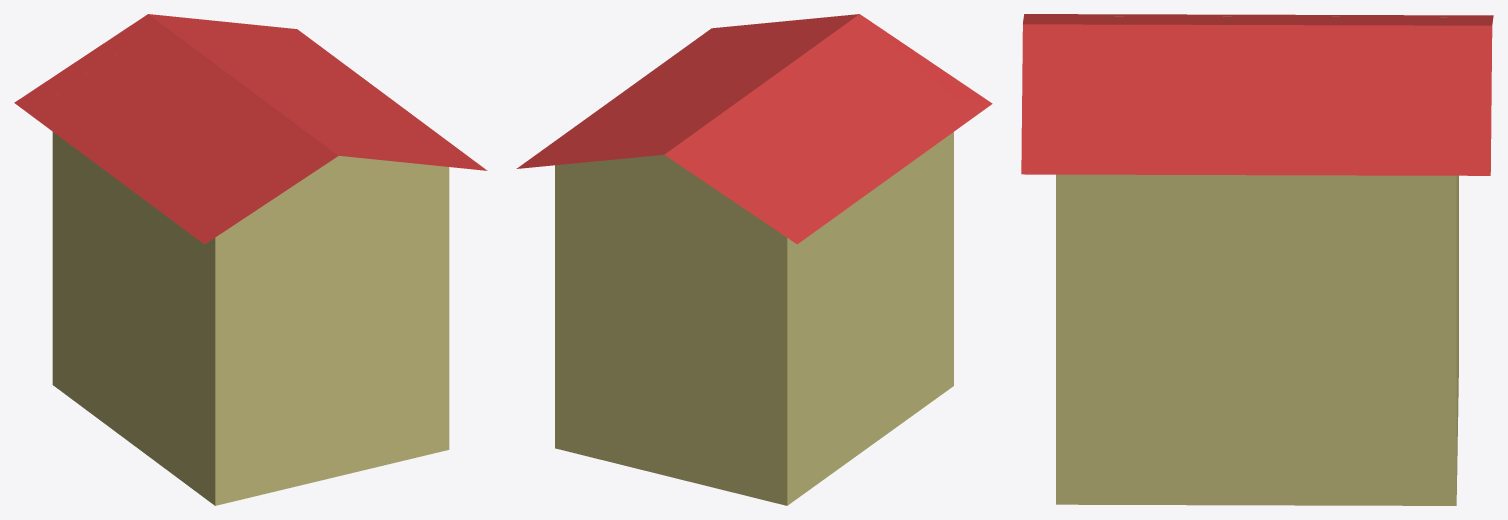
3 views of the same model, side by side, from view 1: azimuth 30°, elevation 25°; view 2: azimuth 150°, elevation 25°; view 3: azimuth 270°, elevation 25° (orthographic). The views are drawn at different scales.
Bounding box in the file's own units: 5.81 × 6.87 × 6.53.
